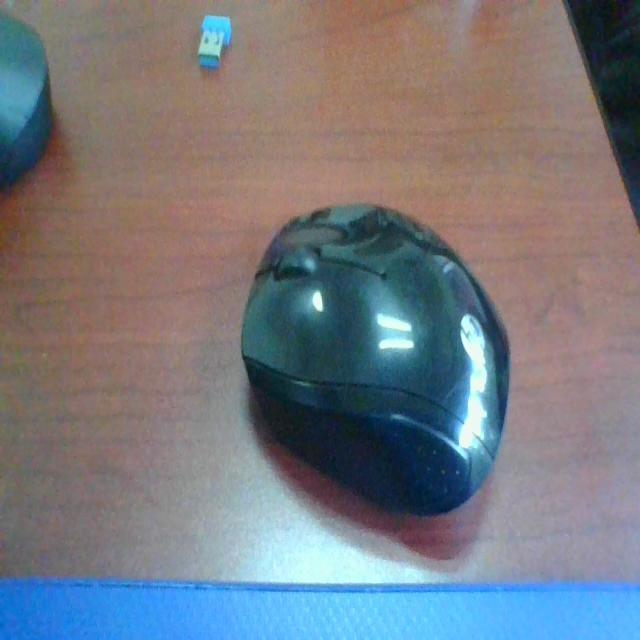Mouse: (244, 196, 503, 534)
